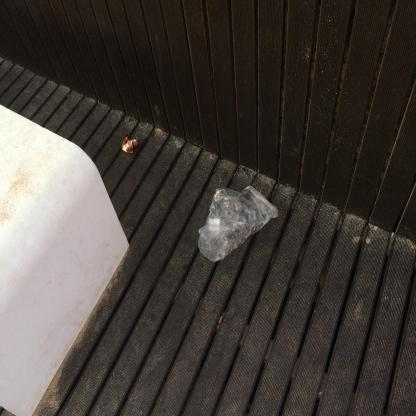plastik: (199, 185, 280, 263), (123, 136, 142, 155)
